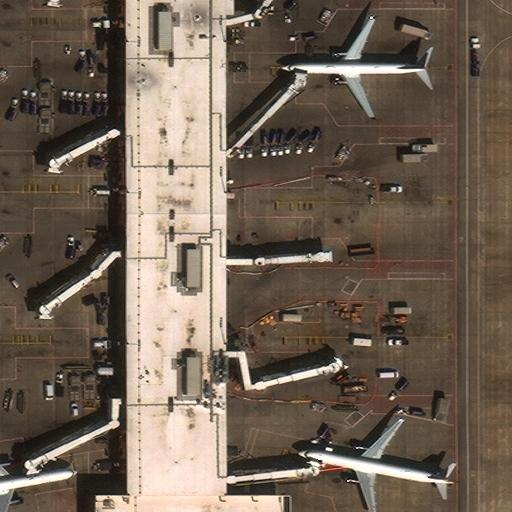Large Civil Transport: (0, 442, 77, 512)
Medium Civil Transport: (281, 16, 427, 117), (298, 418, 454, 512)
